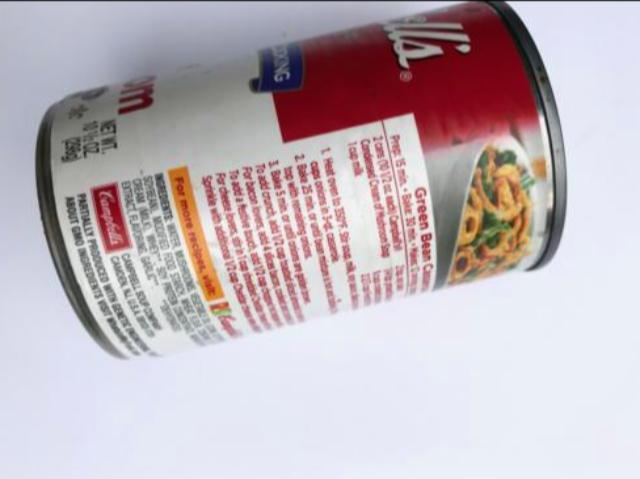metal: (39, 0, 567, 358)
